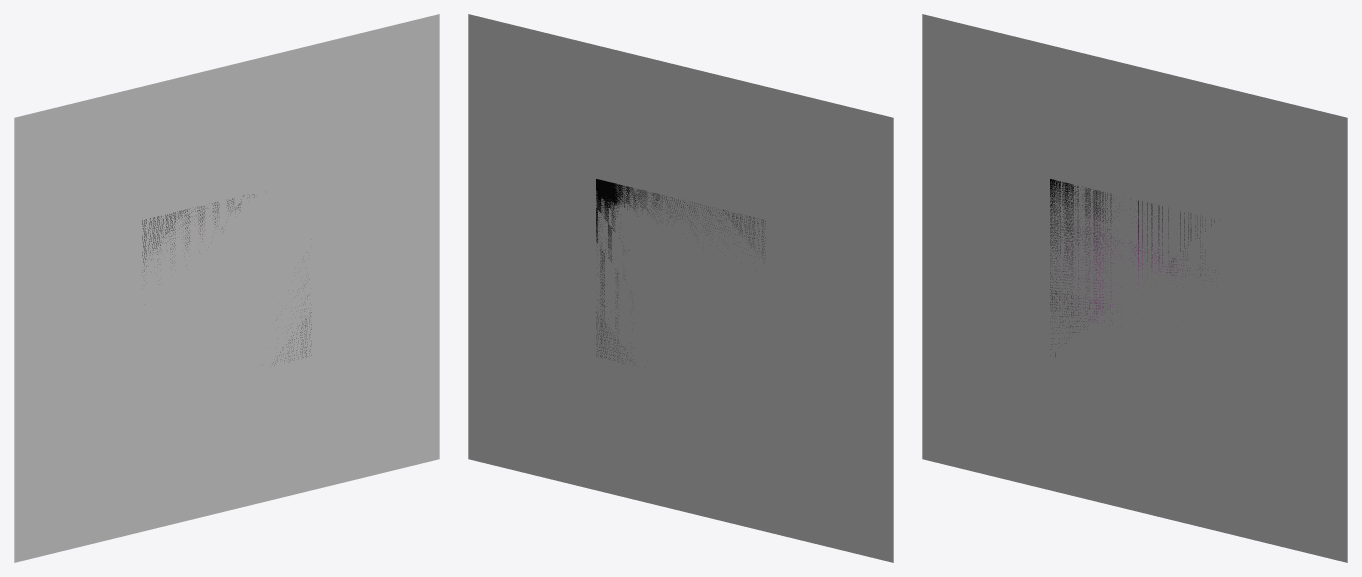
File: model_circle-light.glb
3 renders of one model, left to right at view 1: azimuth 30°, elevation 25°; view 2: azimuth 150°, elevation 25°; view 3: azimuth 330°, elevation 25°, orthographic.
Visible parts, largest first — view 1: control_point.part_circle-light-01-Mesh[0], control_point.model_circle-light-MeshNodes["plane_1unit"], control_point.part_circle-light-02-Mesh[0]; view 2: control_point.part_circle-light-01-Mesh[0], control_point.model_circle-light-MeshNodes["plane_1unit"], control_point.part_circle-light-02-Mesh[0]; view 3: control_point.part_circle-light-01-Mesh[0], control_point.model_circle-light-MeshNodes["plane_1unit"], control_point.part_circle-light-02-Mesh[0].
Boxes of the visible parts, bbox=[...] form: control_point.part_circle-light-01-Mesh[0]: bbox=[14, 14, 439, 562]; control_point.model_circle-light-MeshNodes["plane_1unit"]: bbox=[120, 172, 333, 419]; control_point.part_circle-light-02-Mesh[0]: bbox=[142, 194, 311, 365]; control_point.part_circle-light-01-Mesh[0]: bbox=[468, 14, 893, 562]; control_point.model_circle-light-MeshNodes["plane_1unit"]: bbox=[574, 151, 787, 425]; control_point.part_circle-light-02-Mesh[0]: bbox=[596, 179, 765, 365]; control_point.part_circle-light-01-Mesh[0]: bbox=[922, 14, 1347, 562]; control_point.model_circle-light-MeshNodes["plane_1unit"]: bbox=[1028, 151, 1241, 425]; control_point.part_circle-light-02-Mesh[0]: bbox=[1050, 179, 1219, 356].
Bounding box in the file's own units: 2 × 2 × 0.
Materials: 2 (1 with a texture image).
